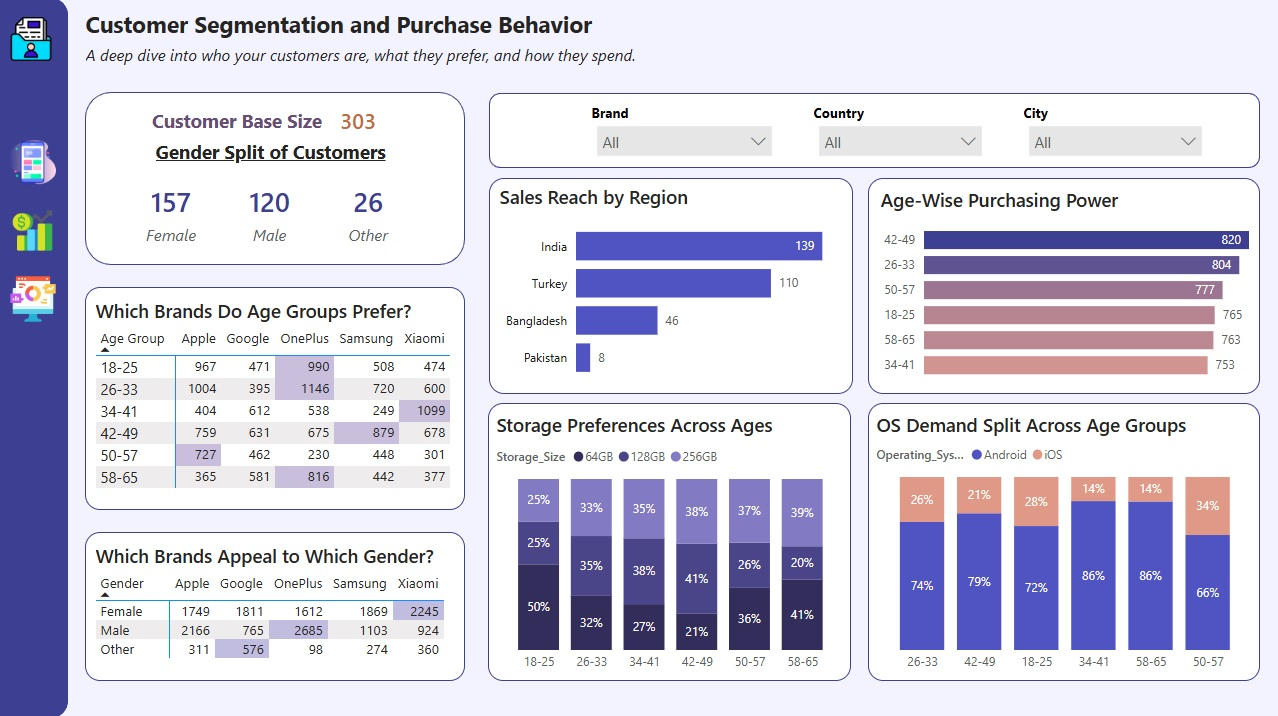

What the dashboard file says about the page in this screenshot:
{"tool":"powerbi","page":{"name":"Customer","canvas":[1280,720],"ordinal":1},"visuals":[{"type":"shape","box":[0,0,67.9,719.8],"z":0},{"type":"shape","box":[85,93.8,380,173],"z":0,"group":"g2"},{"type":"card","fields":{"Values":["Count(Sales.Transaction_ID)"]},"box":[122.5,176.7,98.4,76.2],"z":0,"group":"g1"},{"type":"textbox","title":"Customer Segmentation and Purchase Behavior","box":[81.2,11.2,623.8,66.2],"z":1000},{"type":"multiRowCard","title":"Customer Base Size","fields":{"Values":["Count(Sales.Transaction_ID)"]},"box":[336.2,102.9,53.8,35],"z":1000,"group":"g2"},{"type":"card","fields":{"Values":["Count(Sales.Transaction_ID)"]},"box":[220.9,176.7,98.4,76.2],"z":1000,"group":"g1"},{"type":"textbox","box":[142.6,105,189,38.1],"z":2000,"group":"g2"},{"type":"card","fields":{"Values":["Count(Sales.Transaction_ID)"]},"box":[319.3,176.7,98.4,76.2],"z":2000,"group":"g1"},{"type":"clusteredBarChart","title":"Sales Reach by Region","fields":{"Category":["Location.Country"],"Y":["Count(Sales.Transaction_ID)"]},"box":[488.8,180,363.8,216.2],"z":2000},{"type":"textbox","box":[150.5,136.3,260.8,40],"z":3000,"group":"g2"},{"type":"clusteredBarChart","title":"Age-Wise Purchasing Power","fields":{"Category":["Sales.Customer_Age_Group"],"Y":["Sales.Average_price"]},"box":[868,180,392,216],"z":3000},{"type":"group","id":"g1","title":"Group 1","box":[122.5,176.7,295.2,76.2],"z":4000,"group":"g2"},{"type":"pivotTable","title":"Which Brands Do Age Groups Prefer?","fields":{"Rows":["Sales.Customer_Age_Group"],"Values":["Sum(Sales.Units_Sold)"],"Columns":["Sales.Brand"]},"box":[85,289.4,380,222.5],"z":4000},{"type":"shape","box":[488.8,95,771.2,75],"z":4500,"group":"g3"},{"type":"pivotTable","title":"Which Brands Appeal to Which Gender?","fields":{"Rows":["Sales.Customer_Gender"],"Values":["Sum(Sales.Units_Sold)"],"Columns":["Sales.Brand"]},"box":[85,533.8,380,148.8],"z":5000},{"type":"hundredPercentStackedColumnChart","title":"Storage Preferences Across Ages","fields":{"Category":["Sales.Customer_Age_Group"],"Y":["Sales.total_Units"],"Series":["Sales.Storage_Size"]},"box":[488,405,363,278],"z":6000},{"type":"hundredPercentStackedColumnChart","title":"OS Demand Split Across Age Groups","fields":{"Category":["Sales.Customer_Age_Group"],"Y":["Sales.total_Units"],"Series":["Sales.Operating_System"]},"box":[868,405,392,278],"z":7000},{"type":"group","id":"g2","title":"Group 2","box":[85,93.8,380,173],"z":8000},{"type":"group","id":"g3","title":"Group 3","box":[488.8,95,771.2,75],"z":9000},{"type":"image","box":[2,14,58.9,54.4],"z":10000},{"type":"image","box":[2.2,204.4,61.1,57],"z":11000},{"type":"slicer","title":"Brand","fields":{"Values":["Sales.Brand"]},"box":[590,106.2,191.2,55],"z":12000,"group":"g3"},{"type":"image","box":[2,136,61,57],"z":12000},{"type":"image","box":[2.5,271,61.2,60],"z":12001},{"type":"slicer","title":"Country","fields":{"Values":["Location.Country"]},"box":[811.3,106.2,180,55],"z":13000,"group":"g3"},{"type":"slicer","title":"City","fields":{"Values":["Sales.City"]},"box":[1021.3,106.2,190,55],"z":14000,"group":"g3"}]}

Visuals, with their boxes on the page's 1280x720 design canvas (x1, y1, x2, y2). These are canvas units, not pixel positions in the 1278x716 screenshot, which may show the page scaled, cropped or inside an application window:
shape: left=0, top=0, right=68, bottom=720
shape: left=85, top=94, right=465, bottom=267
card - Count(Sales.Transaction_ID): left=122, top=177, right=221, bottom=253
"Customer Segmentation and Purchase Behavior" textbox: left=81, top=11, right=705, bottom=77
"Customer Base Size" multiRowCard: left=336, top=103, right=390, bottom=138
card - Count(Sales.Transaction_ID): left=221, top=177, right=319, bottom=253
textbox: left=143, top=105, right=332, bottom=143
card - Count(Sales.Transaction_ID): left=319, top=177, right=418, bottom=253
"Sales Reach by Region" clusteredBarChart: left=489, top=180, right=853, bottom=396
textbox: left=150, top=136, right=411, bottom=176
"Age-Wise Purchasing Power" clusteredBarChart: left=868, top=180, right=1260, bottom=396
"Group 1" group: left=122, top=177, right=418, bottom=253
"Which Brands Do Age Groups Prefer?" pivotTable: left=85, top=289, right=465, bottom=512
shape: left=489, top=95, right=1260, bottom=170
"Which Brands Appeal to Which Gender?" pivotTable: left=85, top=534, right=465, bottom=683
"Storage Preferences Across Ages" hundredPercentStackedColumnChart: left=488, top=405, right=851, bottom=683
"OS Demand Split Across Age Groups" hundredPercentStackedColumnChart: left=868, top=405, right=1260, bottom=683
"Group 2" group: left=85, top=94, right=465, bottom=267
"Group 3" group: left=489, top=95, right=1260, bottom=170
image: left=2, top=14, right=61, bottom=68
image: left=2, top=204, right=63, bottom=261
"Brand" slicer: left=590, top=106, right=781, bottom=161
image: left=2, top=136, right=63, bottom=193
image: left=2, top=271, right=64, bottom=331
"Country" slicer: left=811, top=106, right=991, bottom=161
"City" slicer: left=1021, top=106, right=1211, bottom=161
